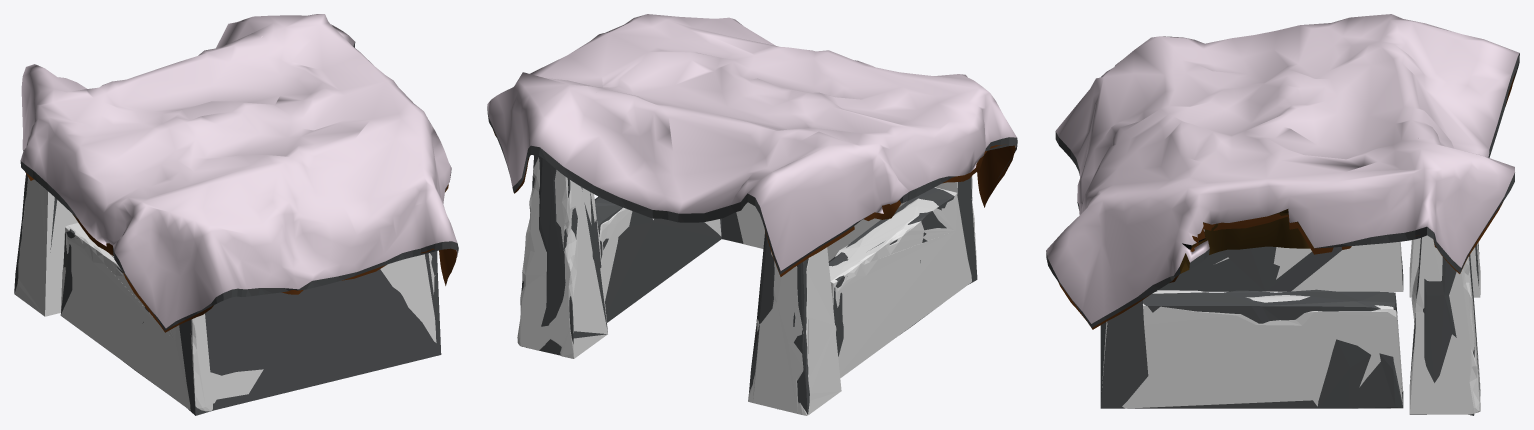
File: Town hall snow.fbx
3 views of the same model, side by side, from view 1: azimuth 30°, elevation 25°; view 2: azimuth 150°, elevation 25°; view 3: azimuth 270°, elevation 25° (orthographic). The views are drawn at different scales.
Visible parts, largest first — view 1: Cube.004, Cylinder.004; view 2: Cube.004, Cylinder.004; view 3: Cube.004, Cylinder.004.
Boxes of the visible parts, x1,y1,x2,y2 form: Cube.004: (14,14,458,415); Cylinder.004: (14,177,436,411); Cube.004: (487,14,1017,414); Cylinder.004: (517,157,976,415); Cube.004: (1046,14,1519,415); Cylinder.004: (1101,235,1480,414).
Bounding box in the file's own units: 2373 × 1442 × 2391.
